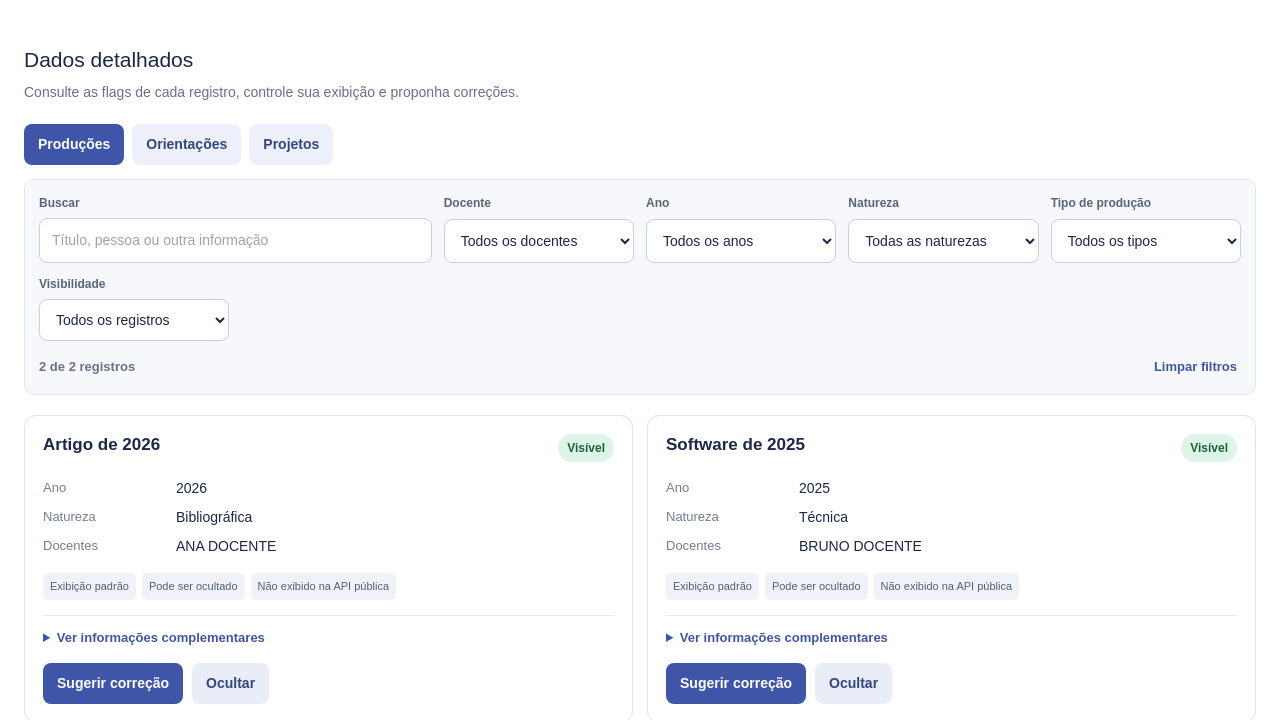
it: painel de registros privados › combina filtros por docente, ano e tipo de produção na coordenação
This screenshot has width=1280, height=720.
Expected: the heading "Artigo de 2026" is shown, [43, 434, 160, 457]
Expected: the heading "Software de 2025" is shown, [666, 434, 805, 457]
Select "ANA DOCENTE" in the dropdown labelled "Docente" at (539, 241), box [444, 219, 634, 262]
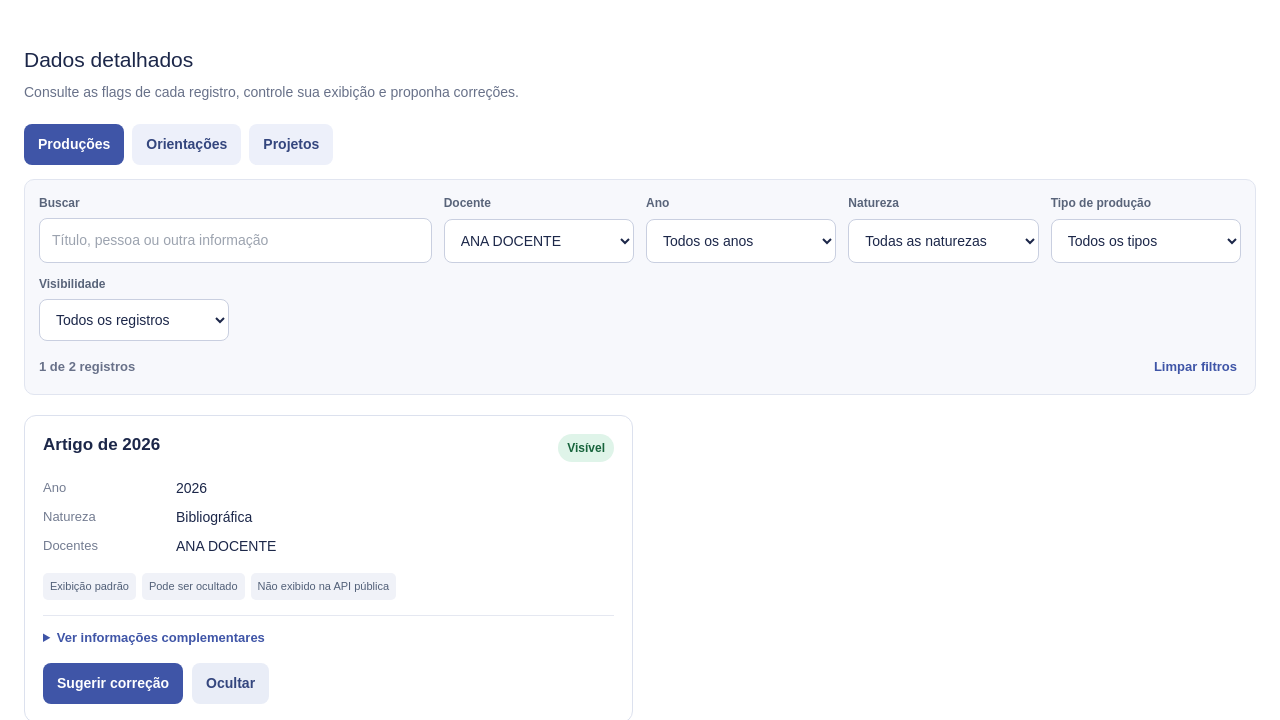
Expected: the heading "Artigo de 2026" is shown, [43, 434, 160, 457]
Expected: the heading "Software de 2025" is gone
Select "2025" in the dropdown labelled "Ano" at (741, 241), box [646, 219, 836, 262]
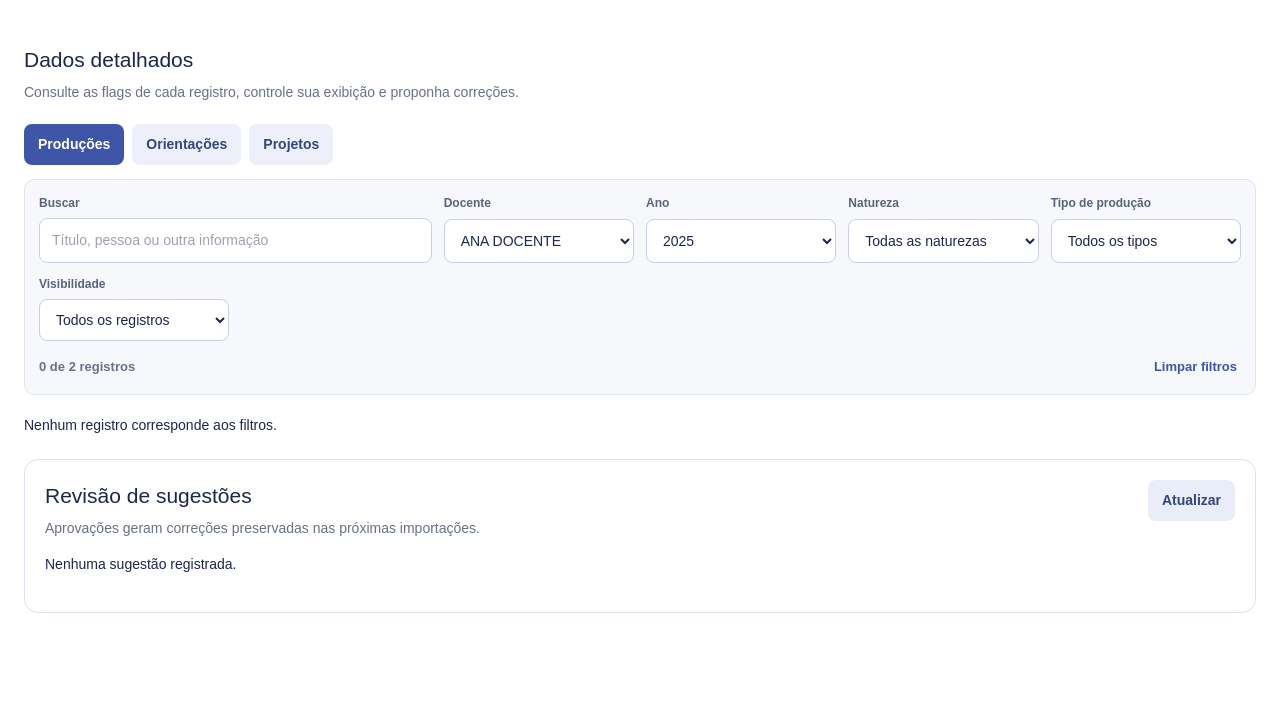
Expected: the text "Nenhum registro corresponde aos filtros." is shown, [24, 417, 277, 433]
Click the button "Limpar filtros".
click(1195, 366)  # box [1150, 352, 1241, 380]
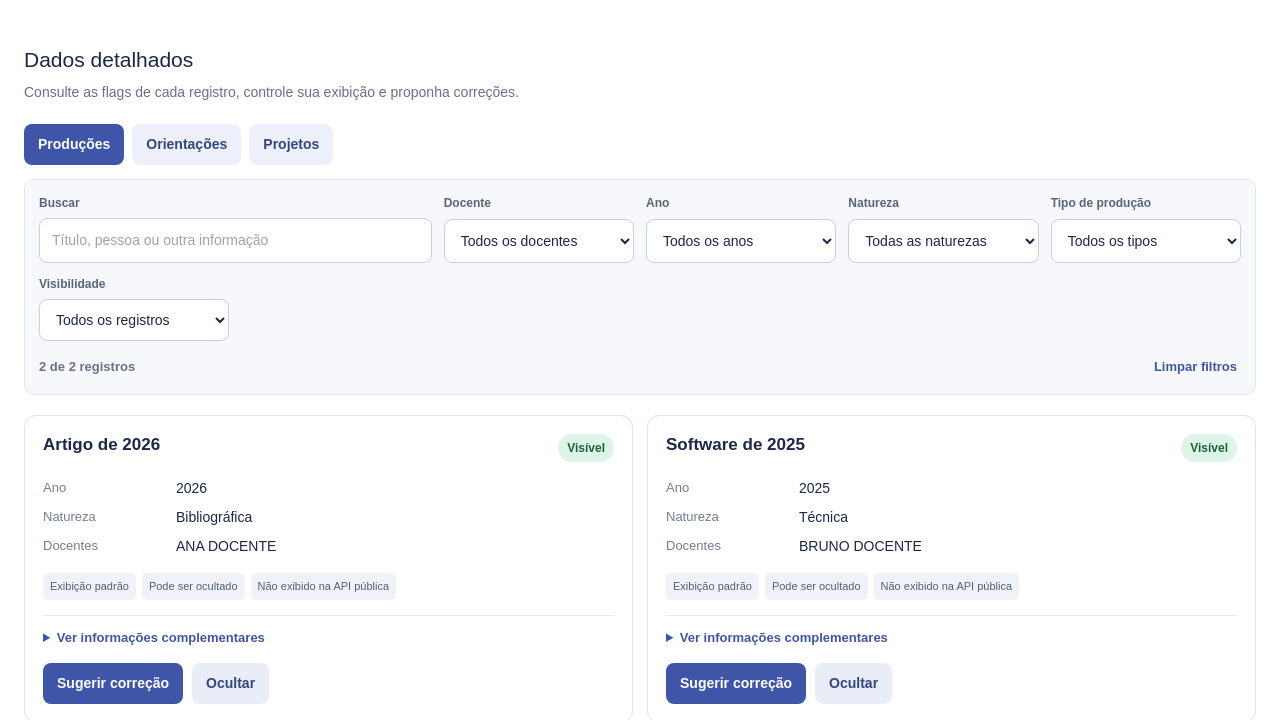
Select "Software" in the dropdown labelled "Tipo de produção" at (1146, 241), box [1051, 219, 1241, 262]
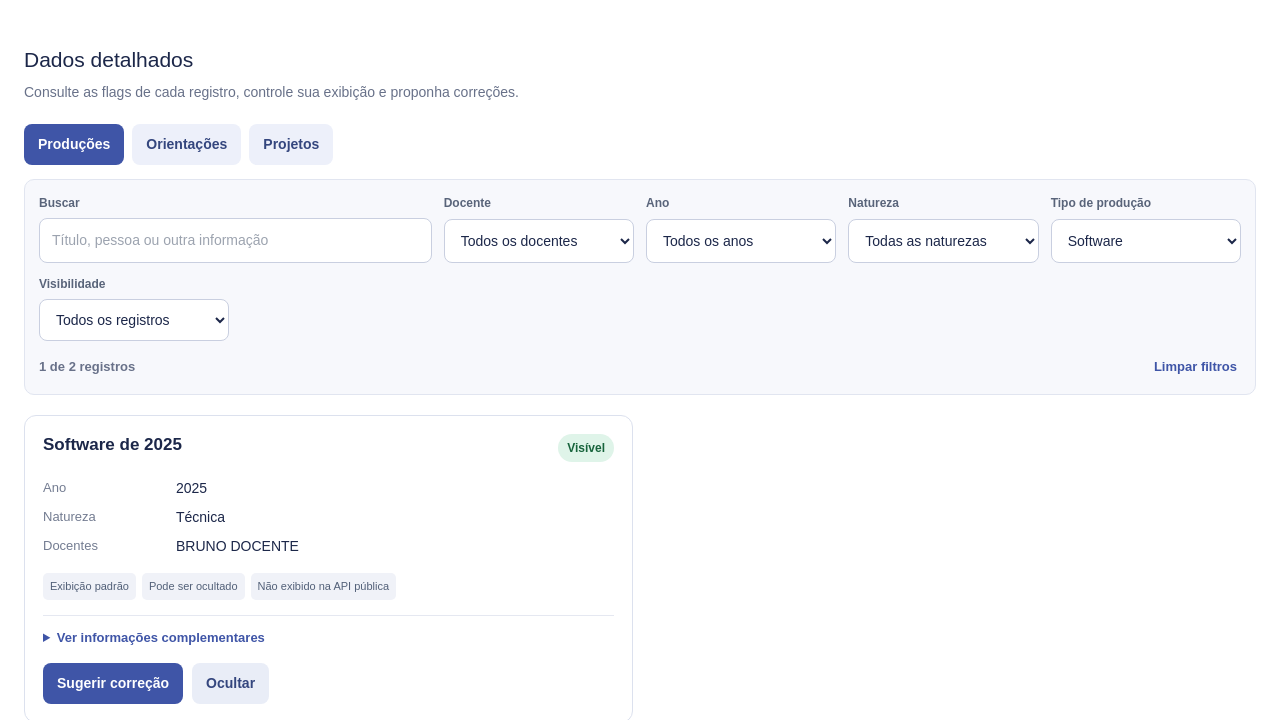
Expected: the heading "Software de 2025" is shown, [43, 434, 182, 457]
Expected: the heading "Artigo de 2026" is gone
Expected: the text "1 de 2 registros" is shown, [39, 356, 135, 376]
